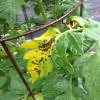Tomato leaf bacterial spot: (34, 26, 99, 60)
